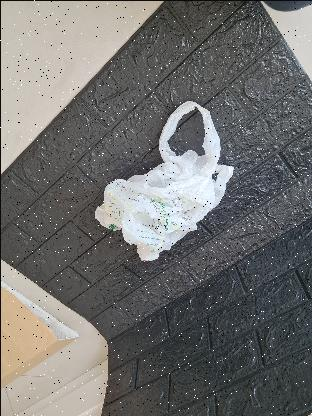Others: (93, 101, 232, 261)
